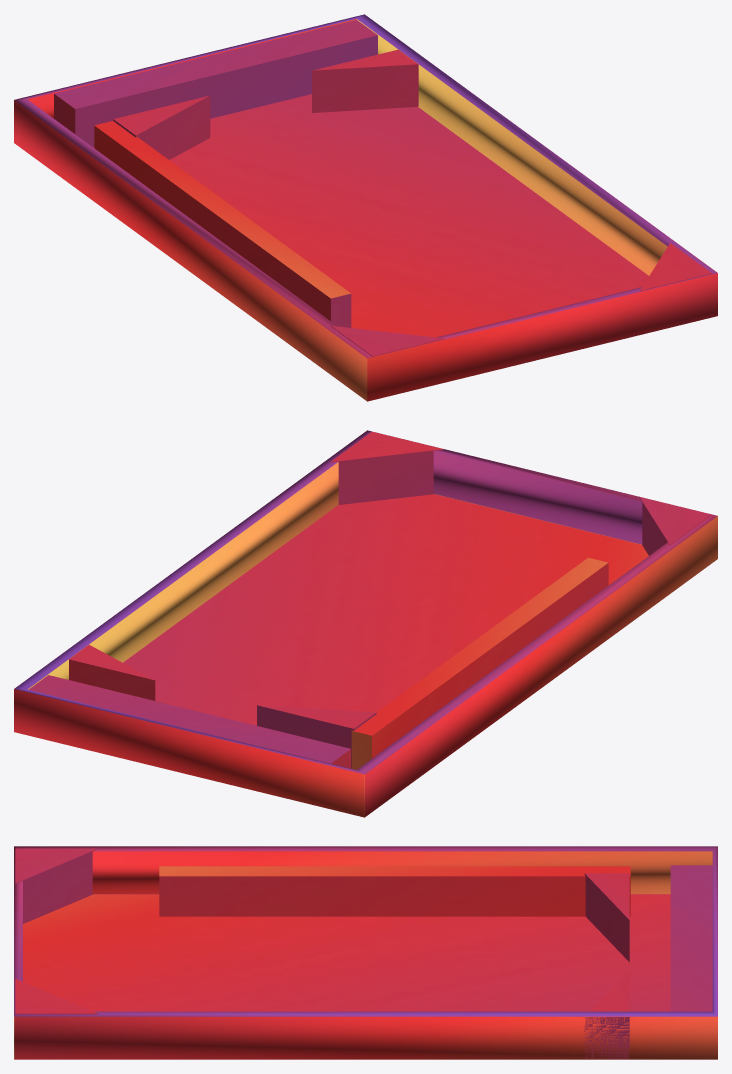
Rendered from board.obj.
3 views of the same model, one above another, from view 1: azimuth 30°, elevation 25°; view 2: azimuth 150°, elevation 25°; view 3: azimuth 270°, elevation 25° (orthographic).
Parts seen in each view (by area): view 1: Cube.004_Cube.007; view 2: Cube.004_Cube.007; view 3: Cube.004_Cube.007.
Boxes of the visible parts, left/top/right/bottom form: Cube.004_Cube.007: left=14, top=14, right=717, bottom=401; Cube.004_Cube.007: left=14, top=430, right=717, bottom=817; Cube.004_Cube.007: left=14, top=846, right=717, bottom=1059.
Bounding box in the file's own units: 40.75 × 4.92 × 71.11.
